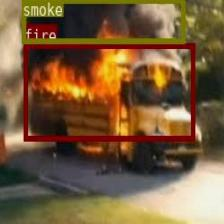fire: (23, 43, 194, 140)
smoke: (21, 0, 184, 42)
